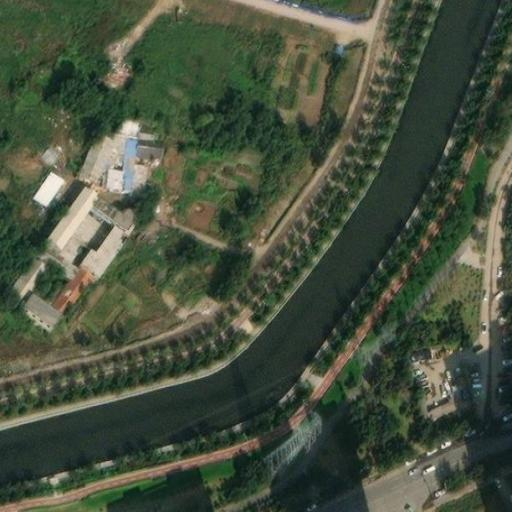building: (48, 176, 100, 239), (79, 219, 127, 271), (77, 123, 120, 178), (50, 256, 92, 305), (20, 282, 65, 323), (13, 251, 48, 291), (32, 163, 67, 200), (122, 129, 136, 186), (105, 161, 124, 185), (132, 157, 148, 183)
